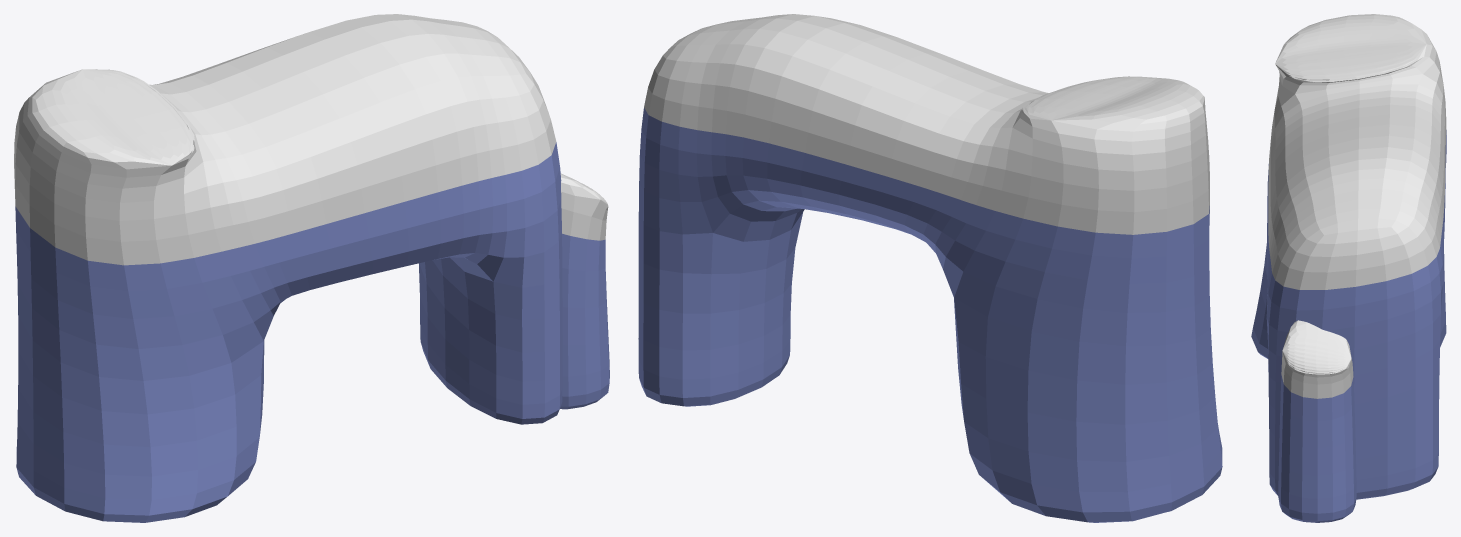
The model's file is Rock02_Mid.fbx.
The picture shows the model from 3 angles, left to right: view 1: azimuth 30°, elevation 25°; view 2: azimuth 150°, elevation 25°; view 3: azimuth 270°, elevation 25°; orthographic projection. The views are drawn at different scales.
Parts seen in each view (by area): view 1: Rock02_Mid; view 2: Rock02_Mid; view 3: Rock02_Mid.
Part boxes in pixels (x1=…): Rock02_Mid: x1=14, y1=14, x2=609, y2=522; Rock02_Mid: x1=638, y1=14, x2=1222, y2=522; Rock02_Mid: x1=1251, y1=14, x2=1446, y2=522.
Size of the model in its own units: 289 by 190 by 110.
